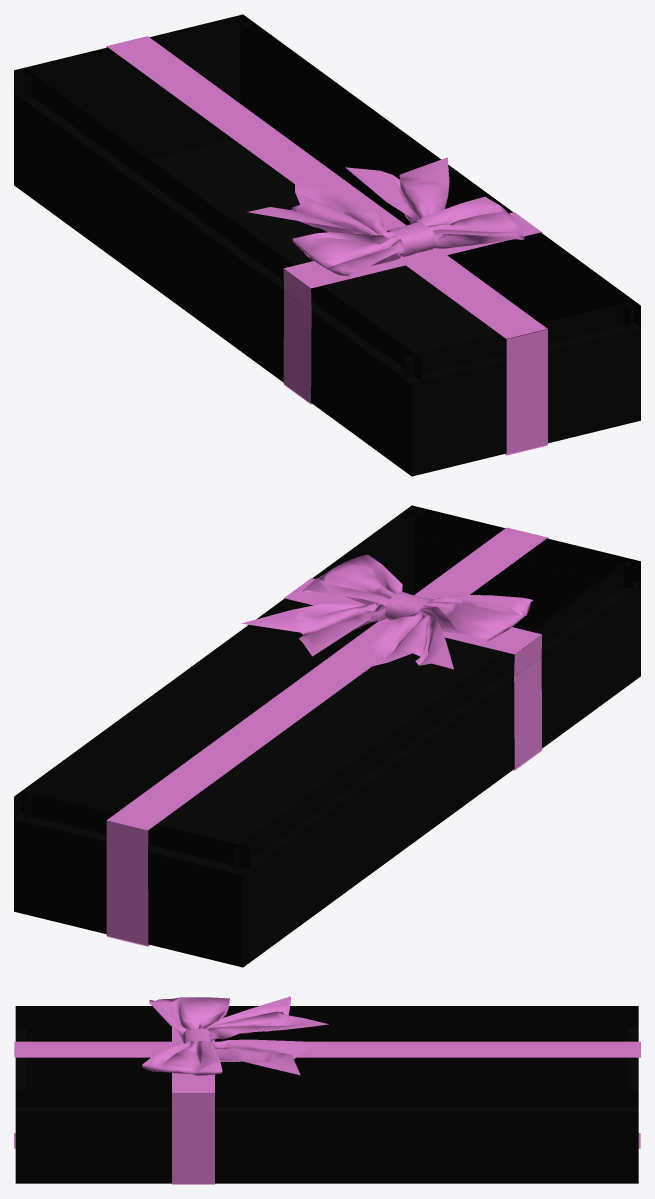
File: cercueil.glb
The picture shows the model from 3 angles, top to bottom: view 1: azimuth 30°, elevation 25°; view 2: azimuth 150°, elevation 25°; view 3: azimuth 270°, elevation 25°; orthographic projection. The views are drawn at different scales.
Parts seen in each view (by area): view 1: Cube.001, Bow; view 2: Cube.001, Bow; view 3: Cube.001, Bow.
Part boxes in pixels (x1,y1,x2,y2): Cube.001: (14, 45, 640, 476); Bow: (14, 14, 640, 383); Cube.001: (14, 536, 640, 967); Bow: (14, 505, 640, 874); Cube.001: (14, 1027, 640, 1184); Bow: (14, 996, 640, 1111).
Size of the model in its own units: 4.05 by 2.27 by 12.12.
